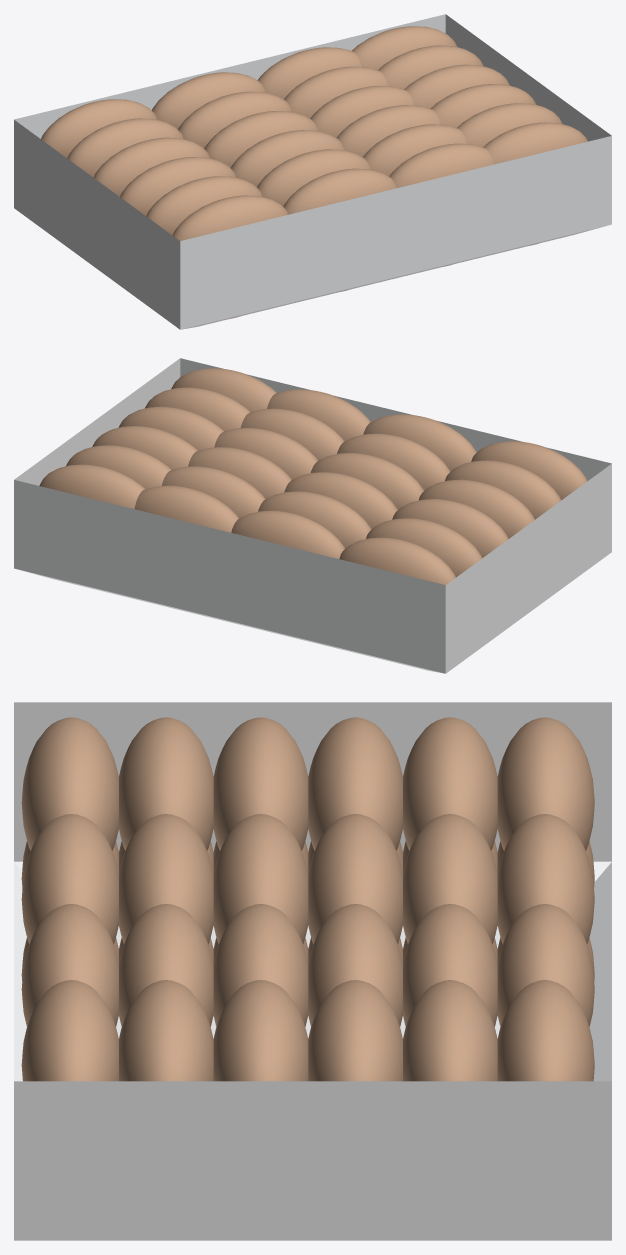
Rendered from cireng.glb.
3 renders of one model, top to bottom at view 1: azimuth 30°, elevation 25°; view 2: azimuth 150°, elevation 25°; view 3: azimuth 270°, elevation 25°, orthographic. The views are drawn at different scales.
Visible parts, largest first — view 1: Sphere.105; view 2: Sphere.105; view 3: Sphere.105.
Part boxes in pixels (box(x1,y1,x2,y2)): Sphere.105: box(14, 14, 611, 329); Sphere.105: box(14, 358, 611, 673); Sphere.105: box(14, 702, 611, 1240).
Bounding box in the file's own units: 0.18 × 0.0467 × 0.12.
